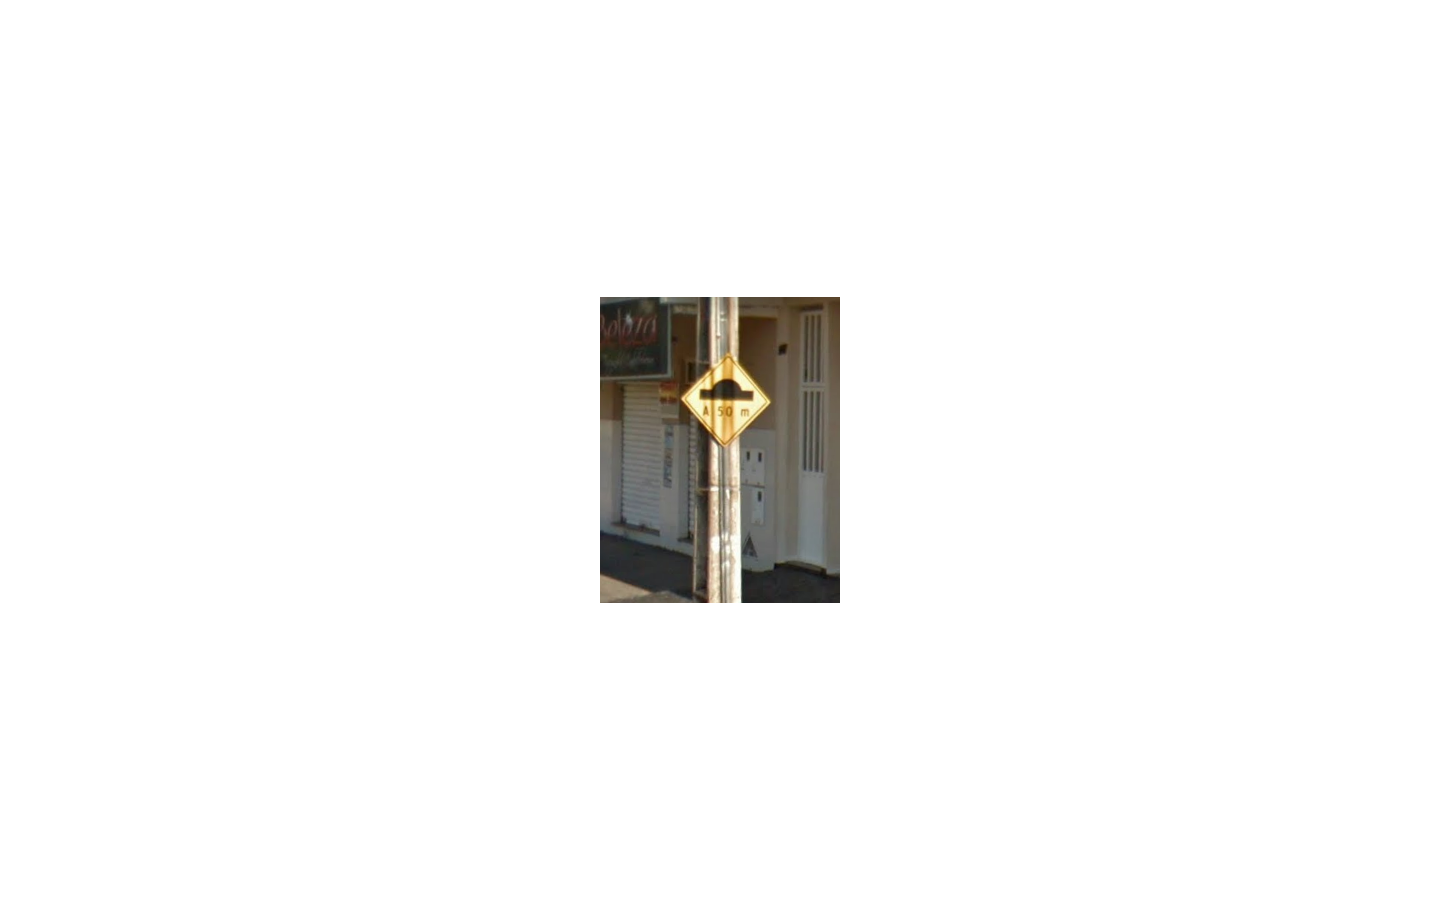l50m: (681, 354, 770, 446)
